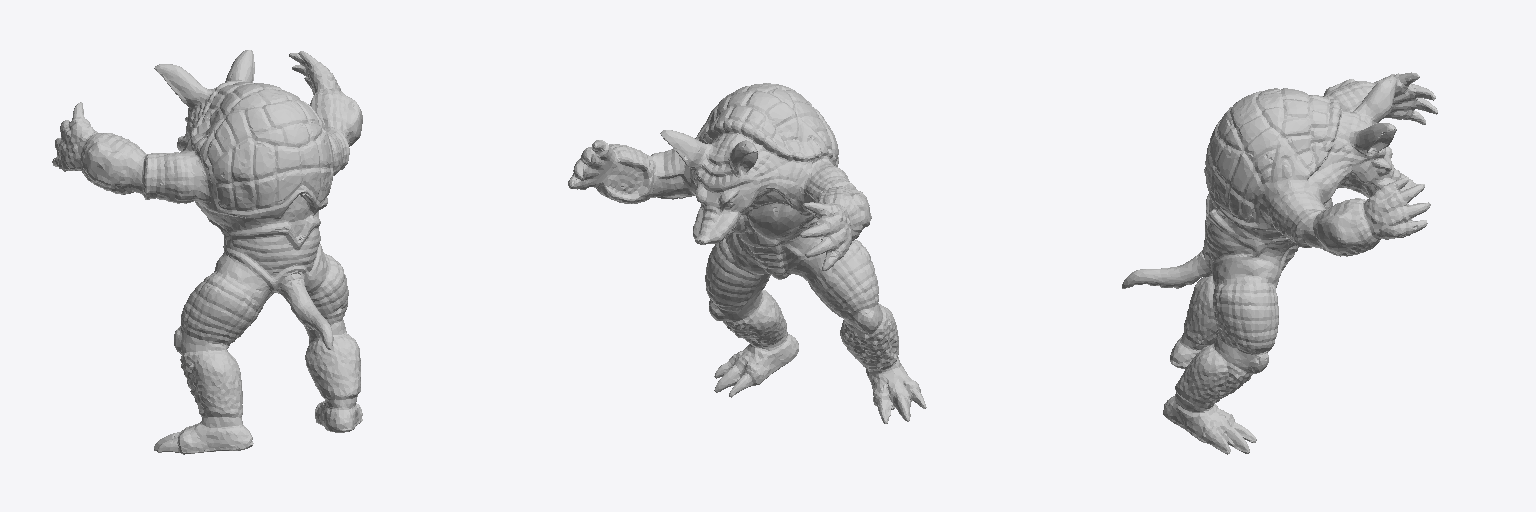
Rendered from armadillo_simple.obj.
The picture shows the model from 3 angles: view 1: azimuth 30°, elevation 25°; view 2: azimuth 150°, elevation 25°; view 3: azimuth 270°, elevation 25°; orthographic projection.
Bounding box in the file's own units: 2.56 × 2.93 × 2.55.